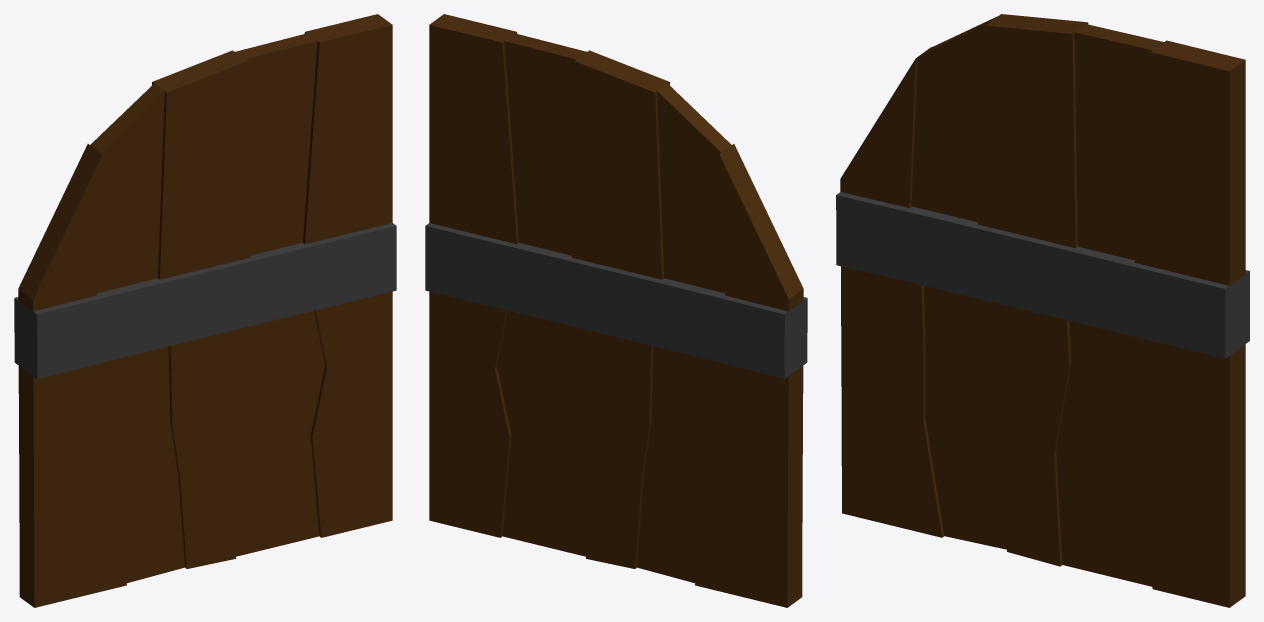
Rendered from ExitDoor.fbx.
3 renders of one model, left to right at view 1: azimuth 30°, elevation 25°; view 2: azimuth 150°, elevation 25°; view 3: azimuth 330°, elevation 25°, orthographic. The views are drawn at different scales.
Visible parts, largest first — view 1: Prison_Exit_Door; view 2: Prison_Exit_Door; view 3: Prison_Exit_Door.
Boxes of the visible parts, x1=… form: Prison_Exit_Door: x1=14, y1=14, x2=396, y2=607; Prison_Exit_Door: x1=425, y1=14, x2=807, y2=607; Prison_Exit_Door: x1=836, y1=14, x2=1249, y2=607.
Size of the model in its own units: 226 by 298 by 24.8.
